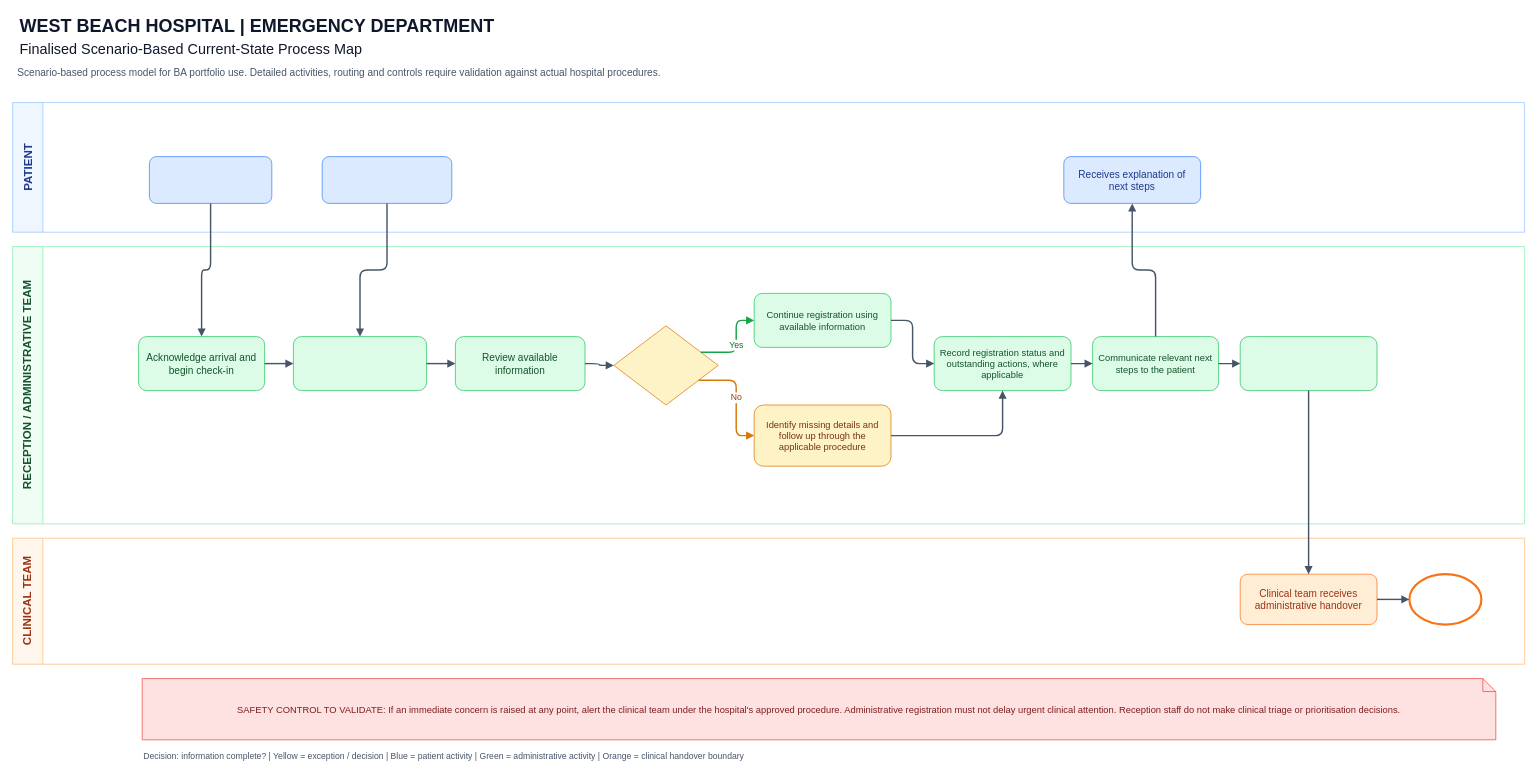
Some shapes in this 1537 by 780 pixel diagram are drawn without their labels. The centre of each missing label's shape, as x and y in pixels:
Administrative process boundary Handover received: [1445,599]
Patient arrives at the Emergency Department: [210,179]
Prepare and send relevant administrative handover: [1308,363]
Provides available information: [386,179]
Request and collect required information: [360,363]
Required information available?: [665,365]
